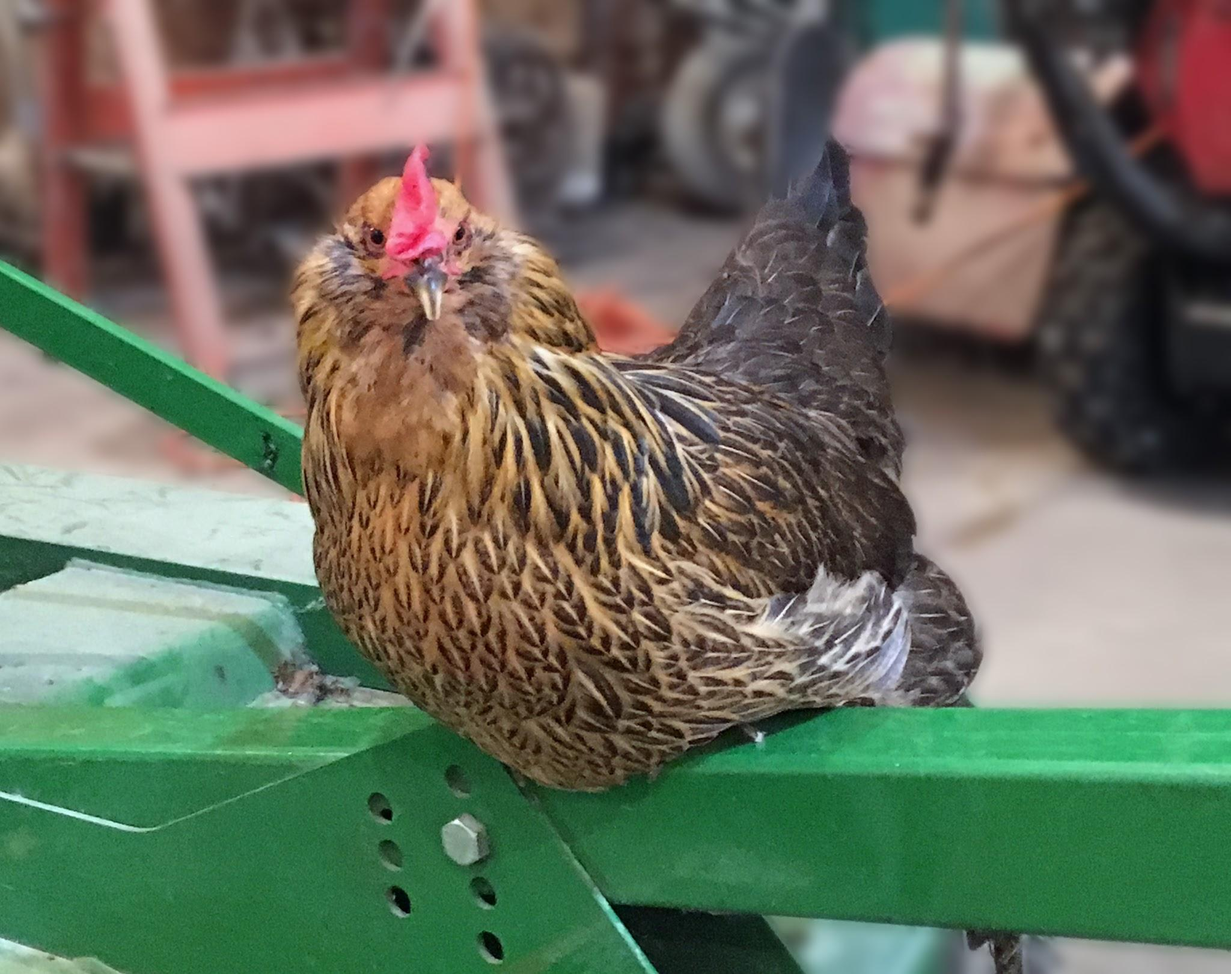AbNormal: (283, 114, 1031, 776)
